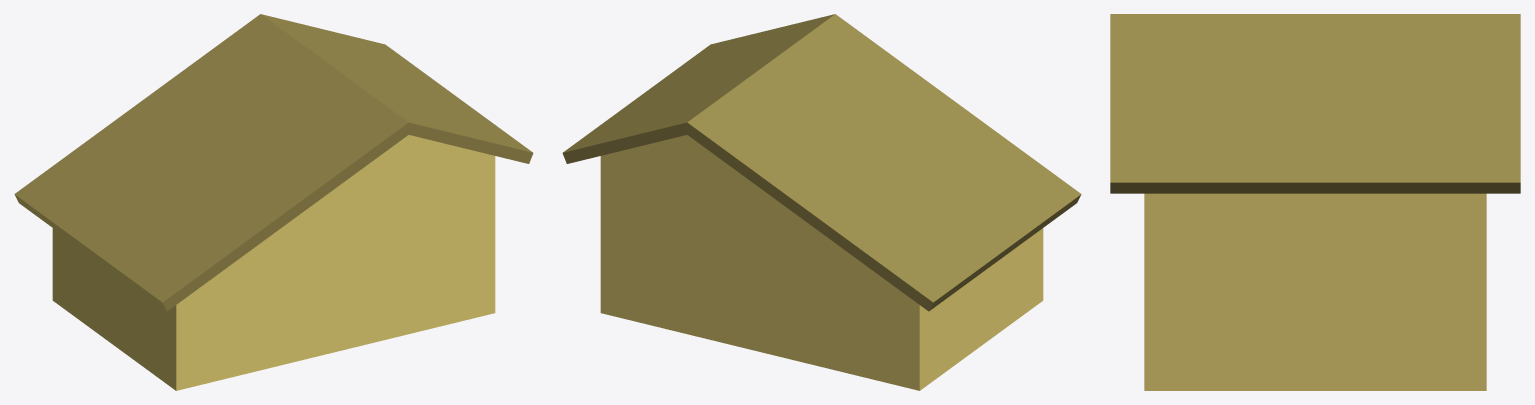
The model's file is result.glb.
The picture shows the model from 3 angles, left to right: view 1: azimuth 30°, elevation 25°; view 2: azimuth 150°, elevation 25°; view 3: azimuth 270°, elevation 25°; orthographic projection. The views are drawn at different scales.
Parts seen in each view (by area): view 1: 072523a3-6e8b-429a-8bb7-f933616ea8ef__undefined (×2), 2b6a9127-a717-4eaf-bfcf-ef3ecda336c4__undefined; view 2: 072523a3-6e8b-429a-8bb7-f933616ea8ef__undefined (×2), 2b6a9127-a717-4eaf-bfcf-ef3ecda336c4__undefined; view 3: 072523a3-6e8b-429a-8bb7-f933616ea8ef__undefined, 2b6a9127-a717-4eaf-bfcf-ef3ecda336c4__undefined.
Part boxes in pixels (bbox=[...]): 072523a3-6e8b-429a-8bb7-f933616ea8ef__undefined (×2): bbox=[14, 14, 533, 311]; 2b6a9127-a717-4eaf-bfcf-ef3ecda336c4__undefined: bbox=[52, 135, 495, 390]; 072523a3-6e8b-429a-8bb7-f933616ea8ef__undefined (×2): bbox=[562, 14, 1081, 311]; 2b6a9127-a717-4eaf-bfcf-ef3ecda336c4__undefined: bbox=[600, 135, 1043, 390]; 072523a3-6e8b-429a-8bb7-f933616ea8ef__undefined: bbox=[1110, 14, 1520, 193]; 2b6a9127-a717-4eaf-bfcf-ef3ecda336c4__undefined: bbox=[1144, 193, 1486, 390].
Bounding box in the file's own units: 867 × 500 × 600.
